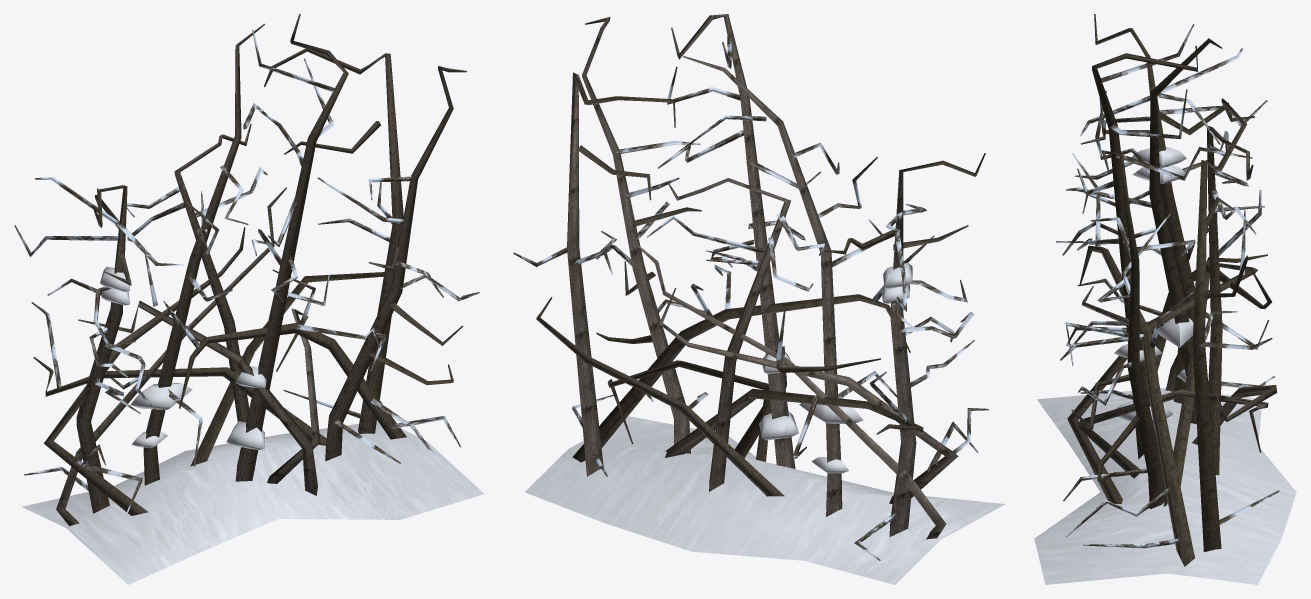
Rendered from hd_thorn3a_far.glb.
3 renders of one model, left to right at view 1: azimuth 30°, elevation 25°; view 2: azimuth 150°, elevation 25°; view 3: azimuth 270°, elevation 25°, orthographic. The views are drawn at different scales.
Parts seen in each view (by area): view 1: hd_thorn3a_far; view 2: hd_thorn3a_far; view 3: hd_thorn3a_far.
Boxes of the visible parts, x1,y1,x2,y2 form: hd_thorn3a_far: [14, 14, 483, 584]; hd_thorn3a_far: [513, 14, 1004, 584]; hd_thorn3a_far: [1034, 14, 1296, 584].
Size of the model in its own units: 2.72 by 3.02 by 1.49.
1 material, 1 textured.
